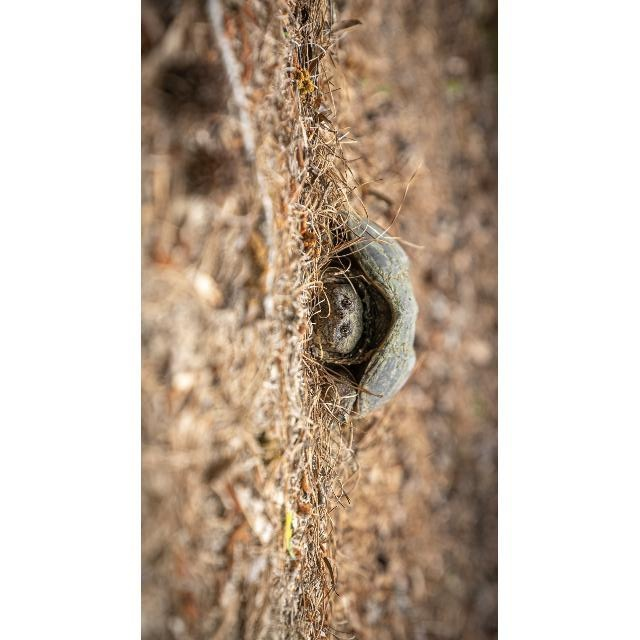turtle: (308, 206, 418, 426)
